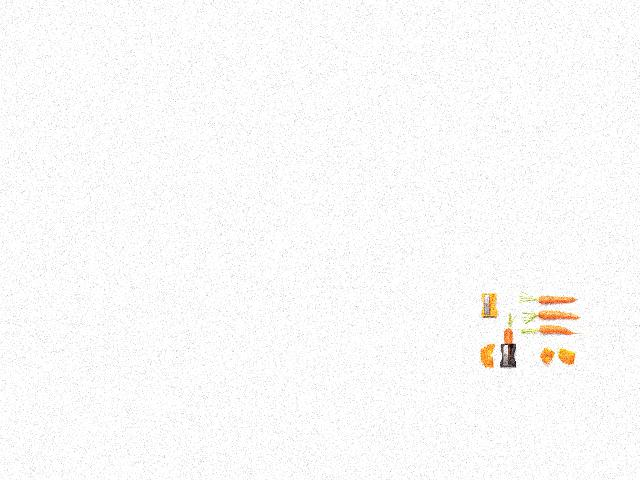carrot: (534, 319, 576, 340)
